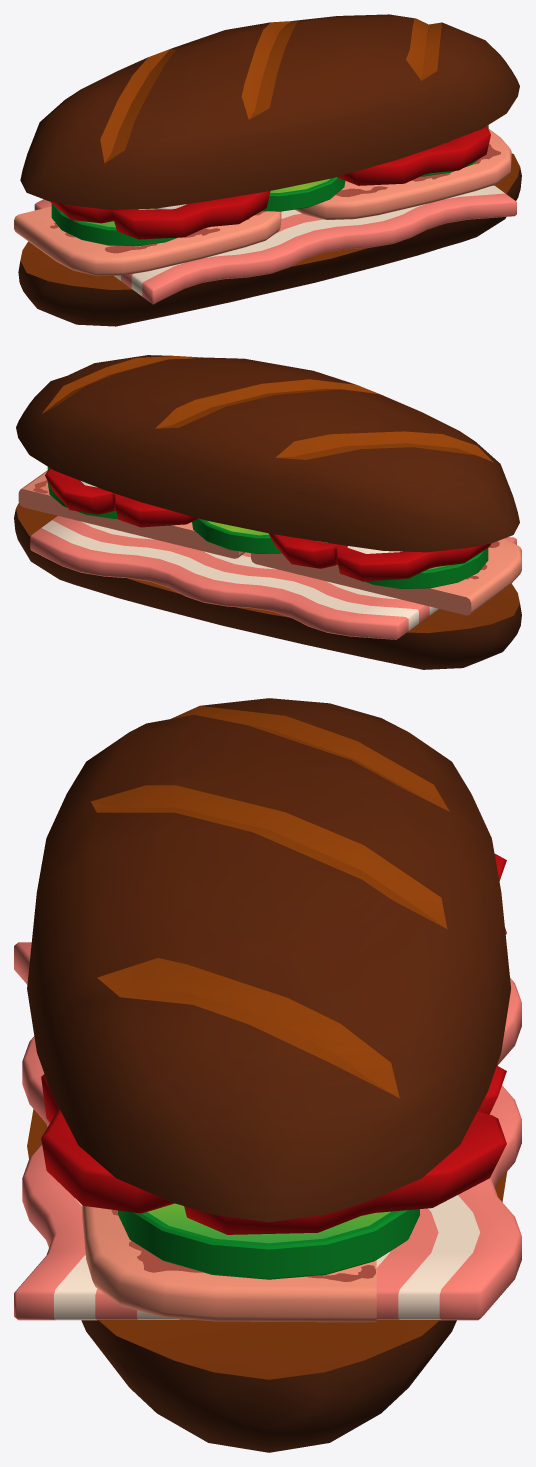
File: Sandwich_05.fbx
3 renders of one model, top to bottom at view 1: azimuth 30°, elevation 25°; view 2: azimuth 150°, elevation 25°; view 3: azimuth 270°, elevation 25°, orthographic. The views are drawn at different scales.
Visible parts, largest first — view 1: Sandwich_05; view 2: Sandwich_05; view 3: Sandwich_05.
Boxes of the visible parts, <box> form: Sandwich_05: <box>14,14,521,326</box>; Sandwich_05: <box>14,355,521,669</box>; Sandwich_05: <box>14,698,521,1452</box>.
Size of the model in its own units: 172 by 78.83 by 76.62.
